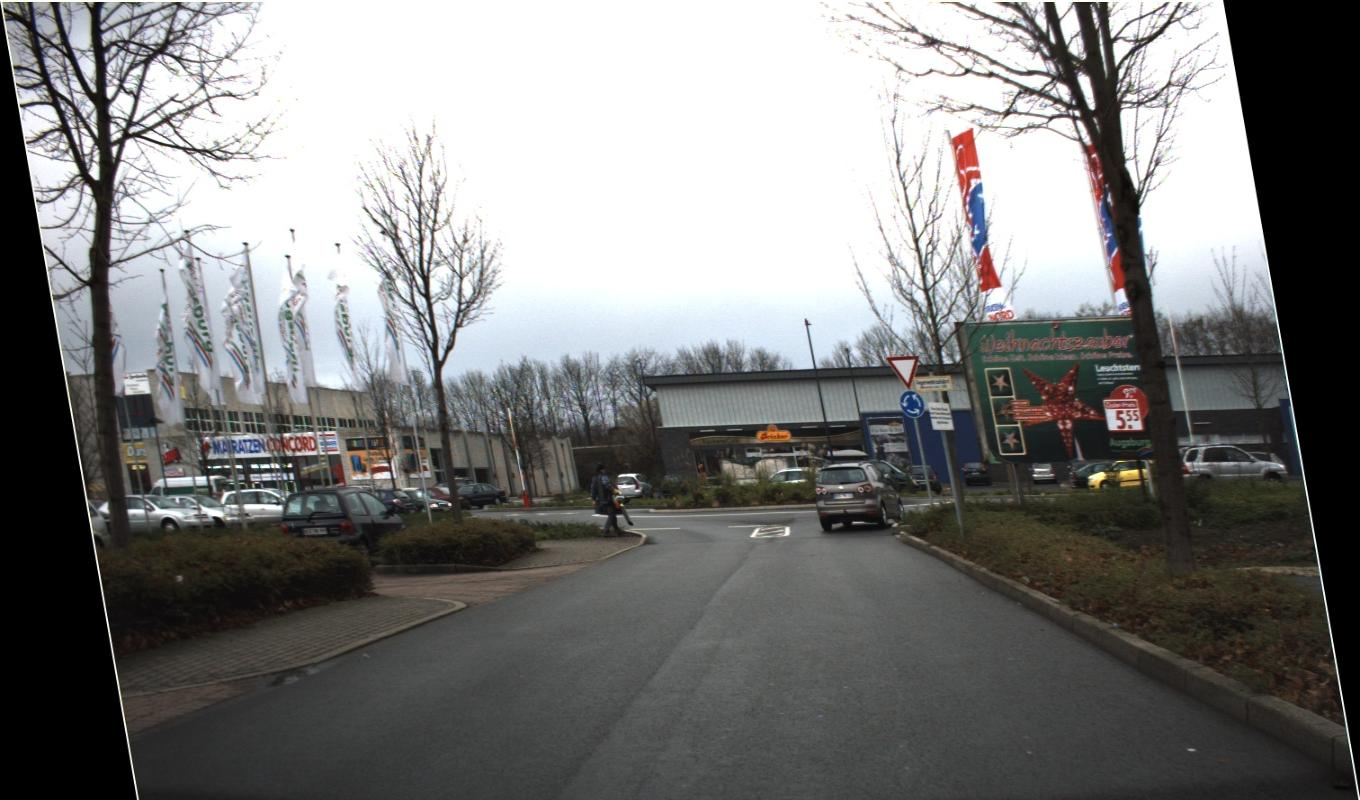roundabout: (883, 354, 926, 419)
